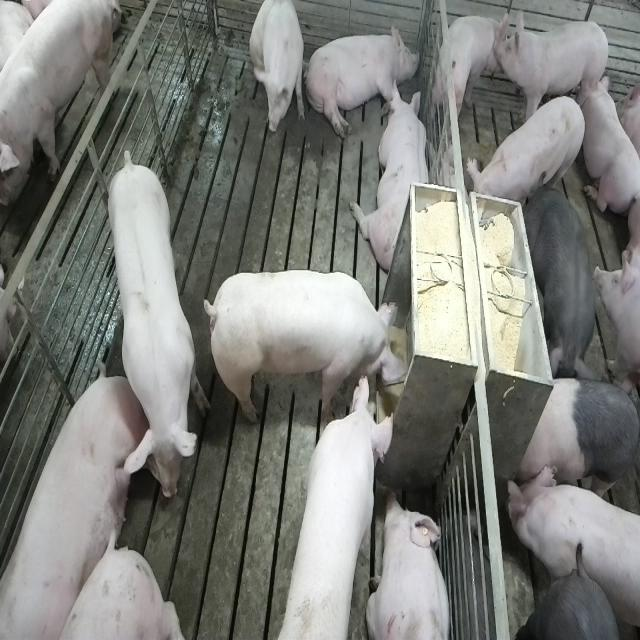Feeding: (202, 274, 408, 429), (278, 366, 393, 632)
Lateral_lying: (304, 20, 420, 141)
Sitting: (250, 1, 306, 144)
Standing: (102, 147, 205, 496), (0, 0, 117, 207), (506, 460, 638, 640), (515, 376, 638, 509), (524, 182, 598, 382), (469, 95, 589, 215), (493, 18, 612, 130), (437, 16, 509, 133), (594, 251, 640, 414), (524, 571, 628, 640)
Sternal_lying: (353, 79, 432, 274), (368, 492, 454, 640), (580, 70, 636, 220)
